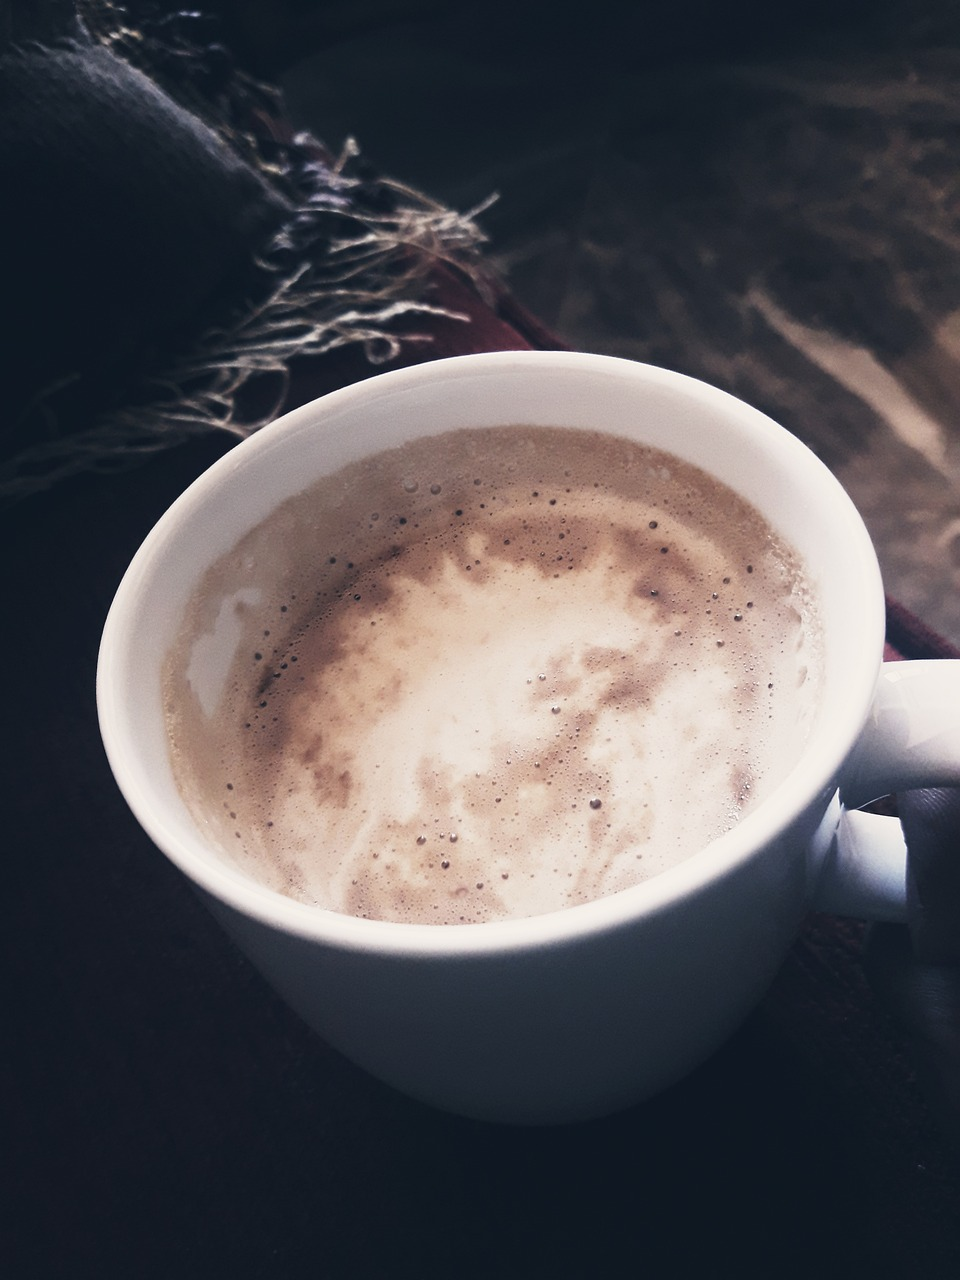mug: (72, 326, 960, 1119)
